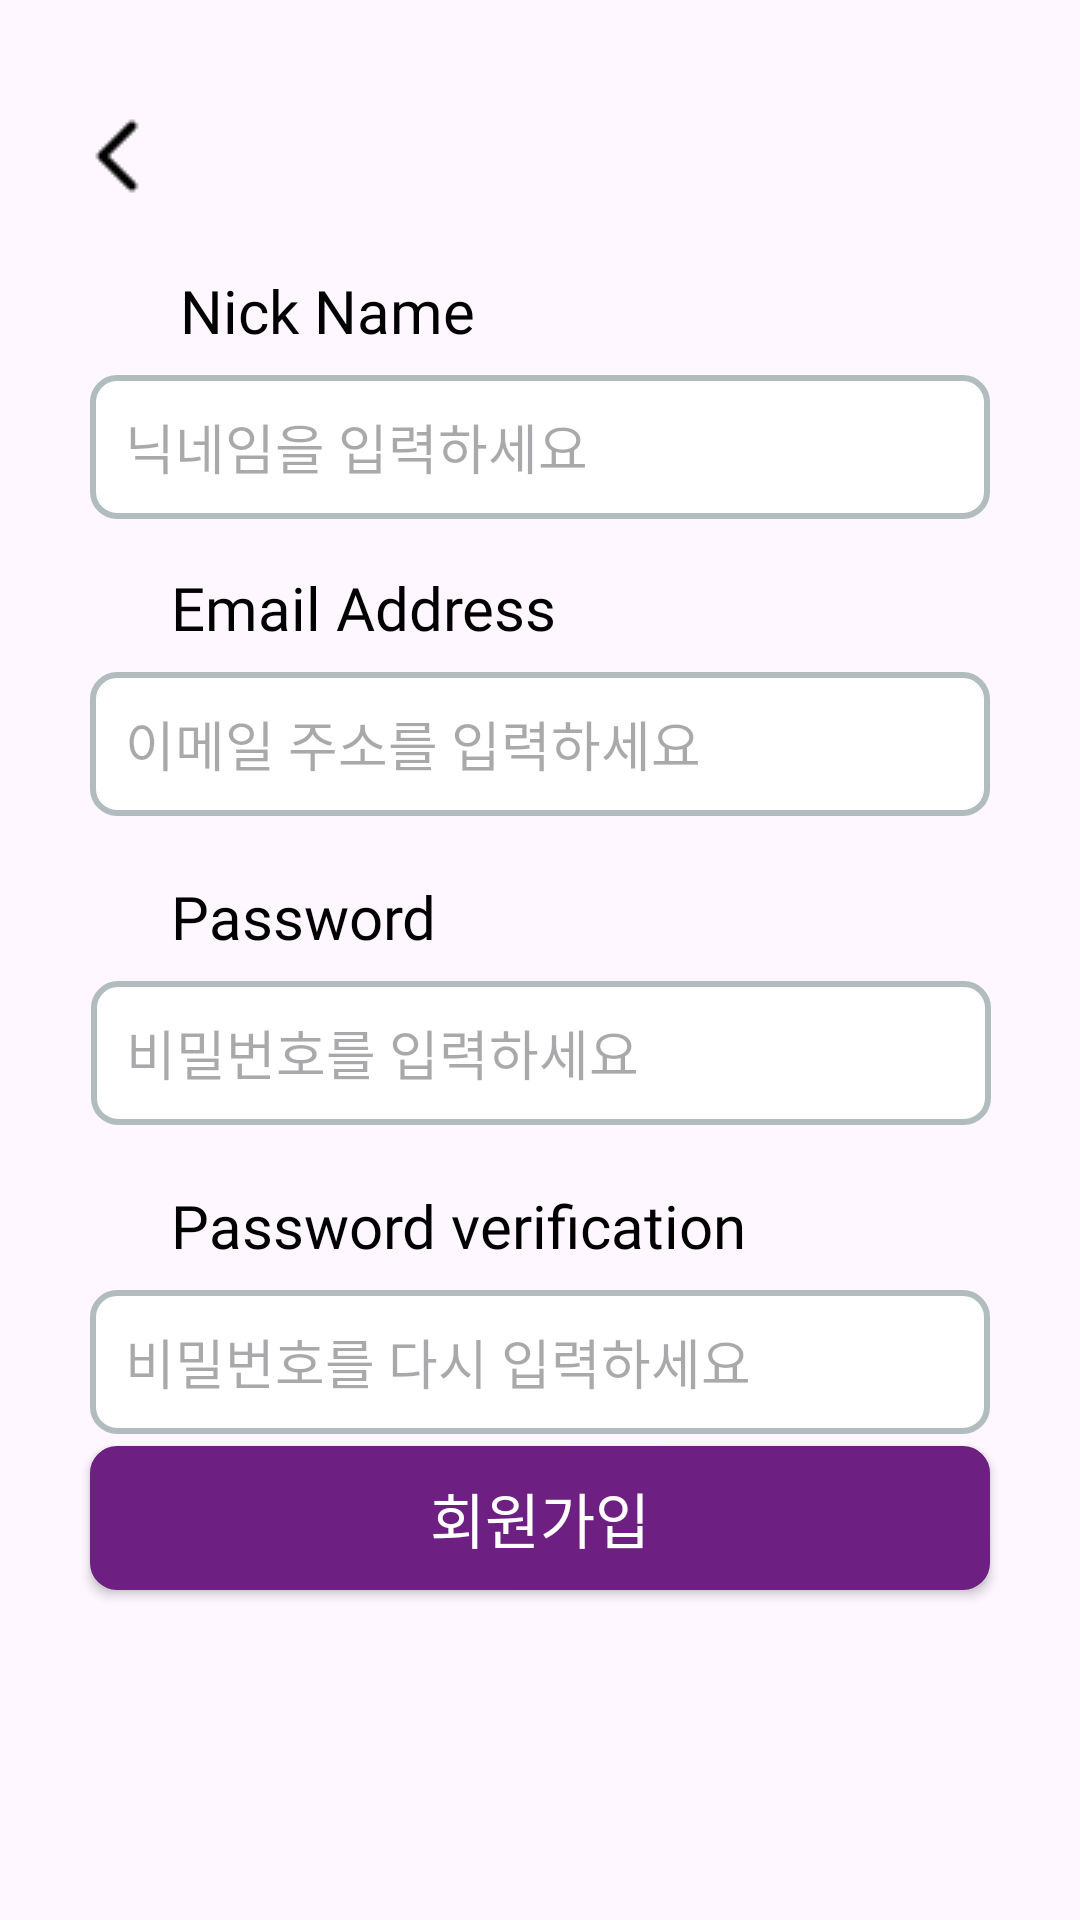

Screen size 1080w x 1920h. Icon name, then its box in pixels as (x1, y1, x2, y2):
back: (95, 119, 139, 193)
